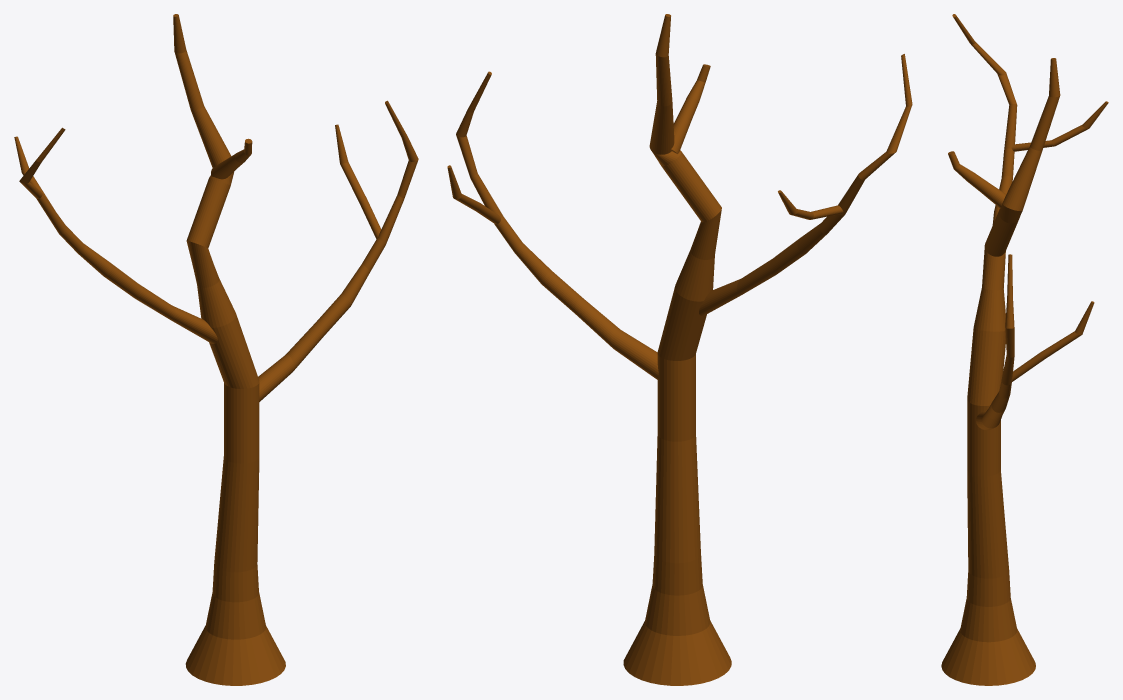
Rendered from SM_Generic_TreeDead_01.fbx.
3 views of the same model, side by side, from view 1: azimuth 30°, elevation 25°; view 2: azimuth 150°, elevation 25°; view 3: azimuth 270°, elevation 25° (orthographic). The views are drawn at different scales.
Parts seen in each view (by area): view 1: Circle, Circle.002, Circle.003, Circle.001; view 2: Circle, Circle.002, Circle.003, Circle.001; view 3: Circle, Circle.002, Circle.003, Circle.001.
Boxes of the visible parts, bbox=[...] form: Circle: bbox=[173, 14, 285, 685]; Circle.002: bbox=[258, 100, 418, 401]; Circle.003: bbox=[14, 127, 217, 343]; Circle.001: bbox=[211, 138, 252, 179]; Circle: bbox=[623, 14, 731, 685]; Circle.002: bbox=[447, 71, 658, 379]; Circle.003: bbox=[699, 54, 912, 315]; Circle.001: bbox=[671, 64, 710, 153]; Circle: bbox=[941, 58, 1060, 685]; Circle.002: bbox=[976, 254, 1094, 430]; Circle.003: bbox=[952, 14, 1108, 224]; Circle.001: bbox=[948, 151, 1006, 208].
Bounding box in the file's own units: 642 × 962 × 245.
